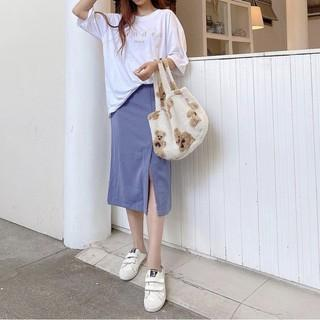Tshirt: (76, 0, 193, 117)
skirt: (90, 76, 181, 231)
